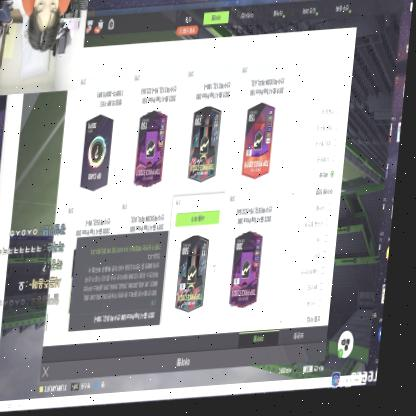streamer: (14, 0, 77, 54)
